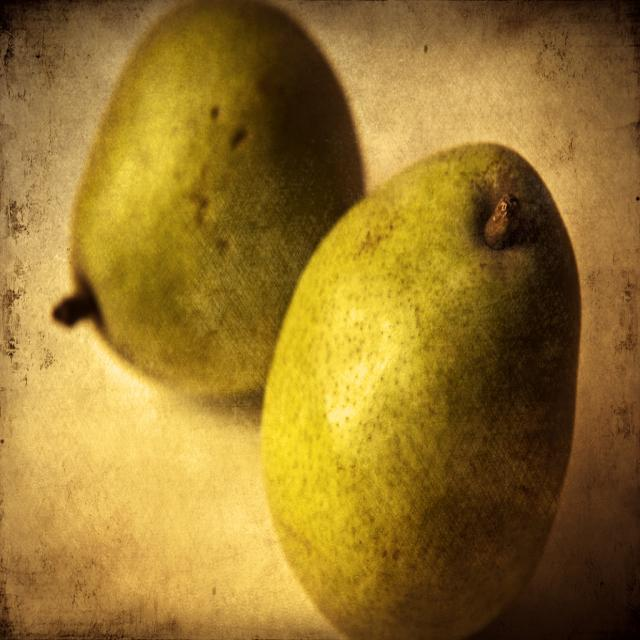pear: (260, 144, 584, 639), (69, 2, 363, 389)
